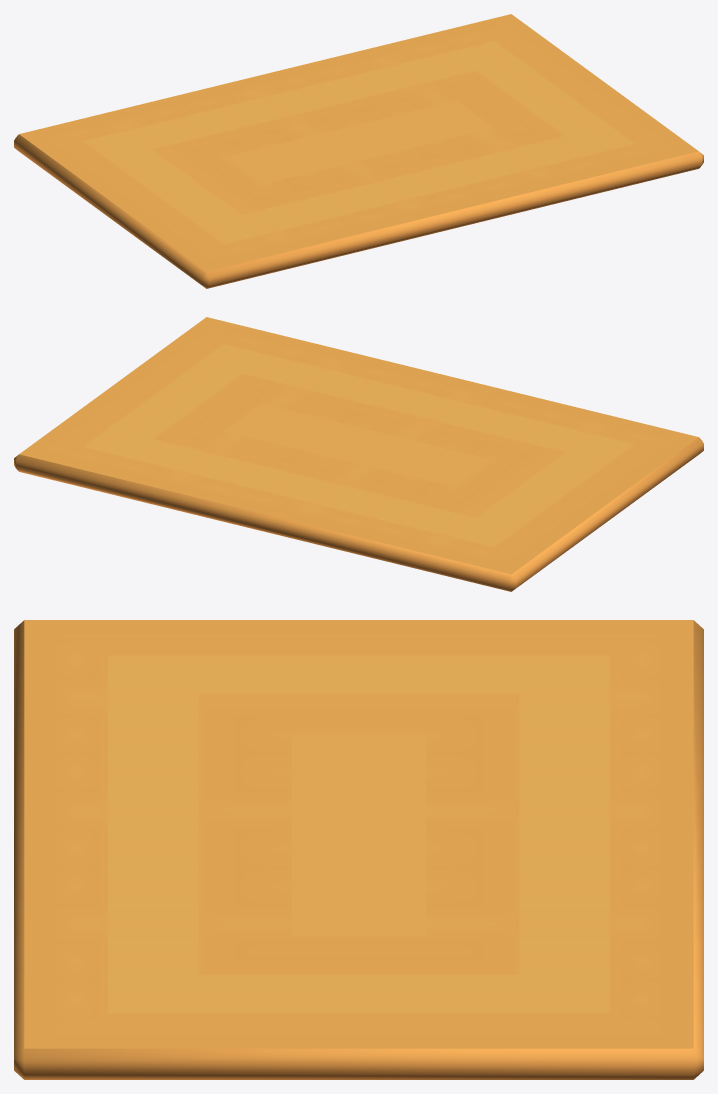
The model's file is rug-rectangle-stripes-a.glb.
3 renders of one model, top to bottom at view 1: azimuth 30°, elevation 25°; view 2: azimuth 150°, elevation 25°; view 3: azimuth 270°, elevation 25°, orthographic. The views are drawn at different scales.
Visible parts, largest first — view 1: rug_rectangle_stripes_A; view 2: rug_rectangle_stripes_A; view 3: rug_rectangle_stripes_A.
Boxes of the visible parts, x1=… form: rug_rectangle_stripes_A: x1=14, y1=14, x2=703, y2=288; rug_rectangle_stripes_A: x1=14, y1=317, x2=703, y2=591; rug_rectangle_stripes_A: x1=14, y1=620, x2=703, y2=1079.
Size of the model in its own units: 3 by 0.1 by 2.
1 material, 1 textured.
